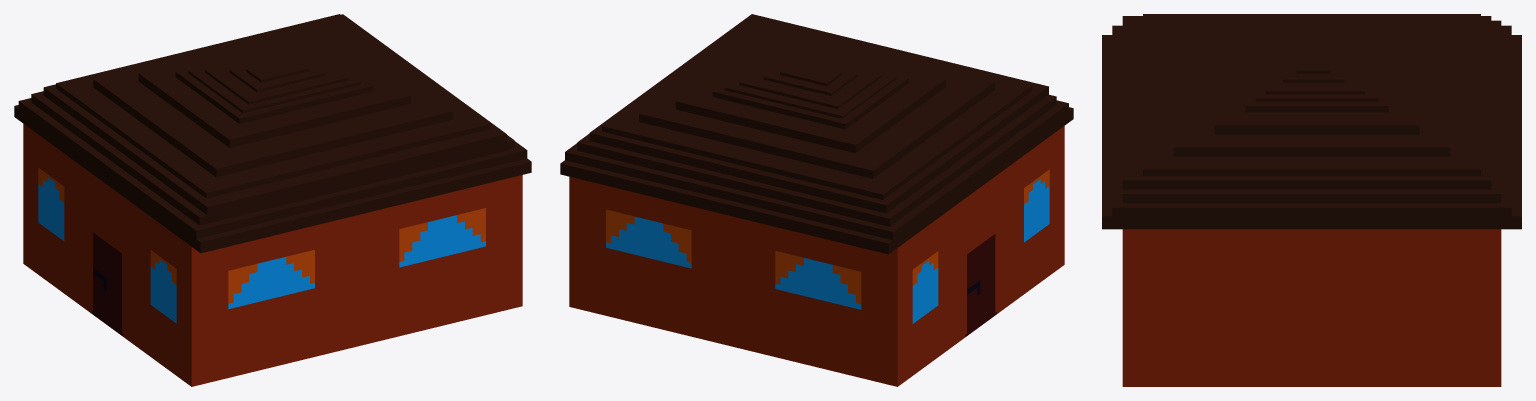
The model's file is house-de-bogati.obj.
3 renders of one model, left to right at view 1: azimuth 30°, elevation 25°; view 2: azimuth 150°, elevation 25°; view 3: azimuth 270°, elevation 25°, orthographic. The views are drawn at different scales.
Bounding box in the file's own units: 12.6 × 7.8 × 12.3.
Materials: 1 (1 with a texture image).
